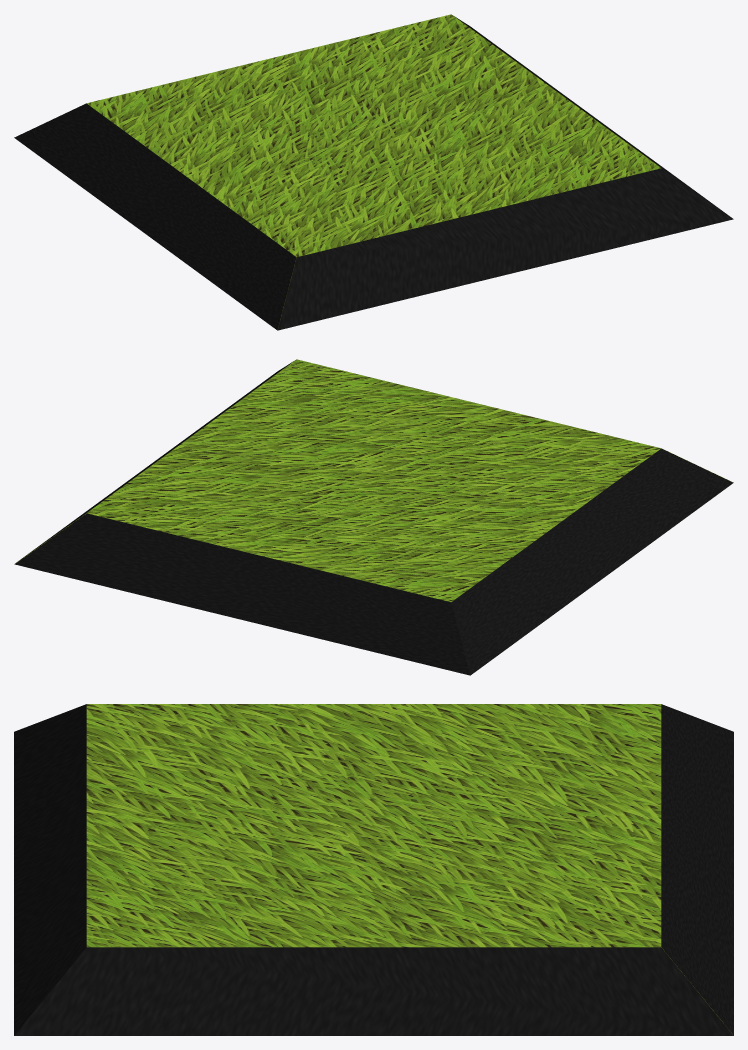
Rendered from MiniatureBase25x25.glb.
3 renders of one model, top to bottom at view 1: azimuth 30°, elevation 25°; view 2: azimuth 150°, elevation 25°; view 3: azimuth 270°, elevation 25°, orthographic. The views are drawn at different scales.
Parts seen in each view (by area): view 1: Cube; view 2: Cube; view 3: Cube.
Boxes of the visible parts, left/top/right/bottom form: Cube: left=14, top=14, right=733, bottom=330; Cube: left=14, top=359, right=733, bottom=675; Cube: left=14, top=704, right=733, bottom=1035.
Bounding box in the file's own units: 0.2501 × 0.0224 × 0.2502.
Materials: 1 (1 with a texture image).
